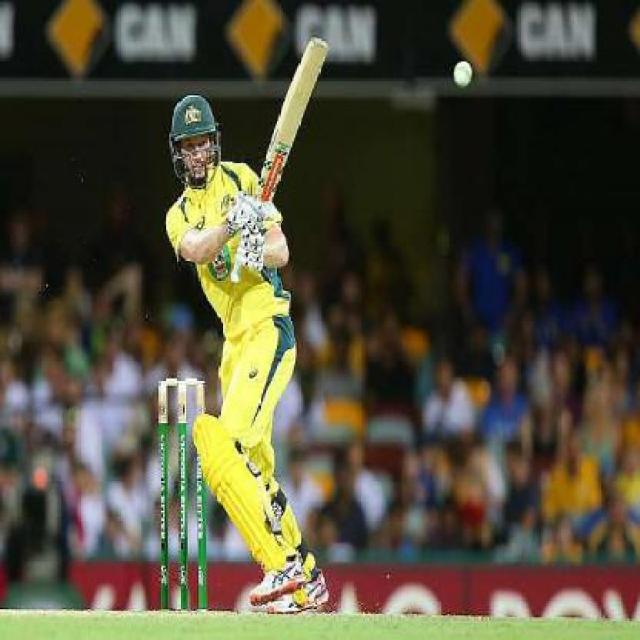ball: (432, 39, 492, 107)
